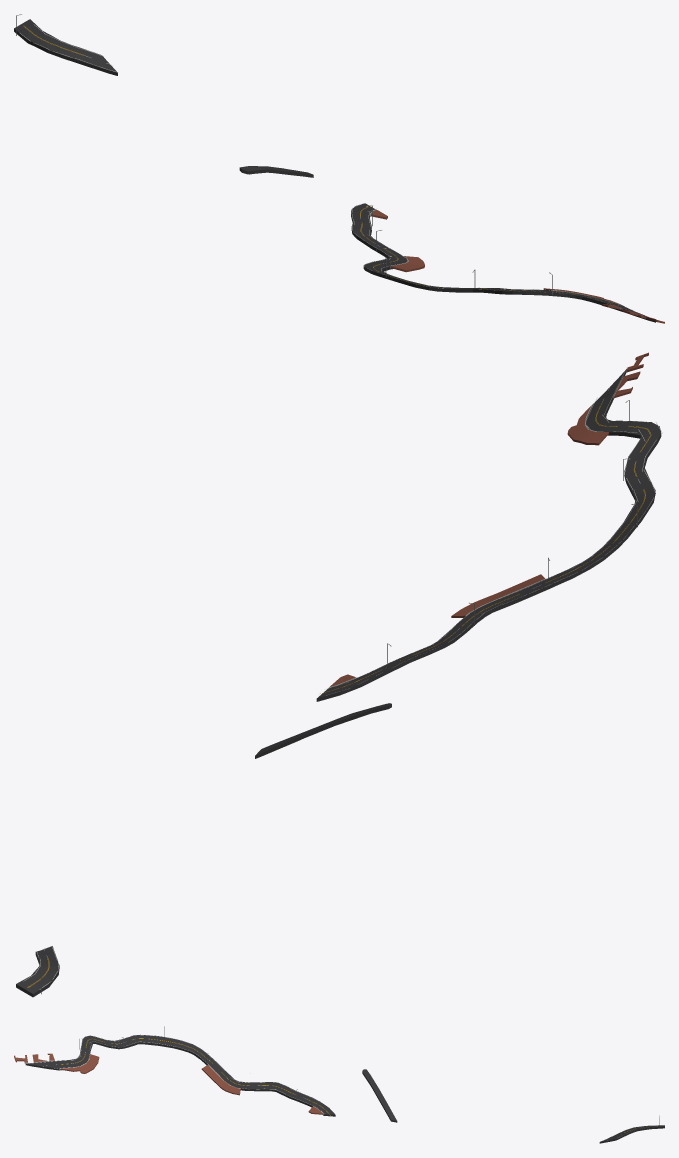
The picture shows the model from 3 angles, top to bottom: view 1: azimuth 30°, elevation 25°; view 2: azimuth 150°, elevation 25°; view 3: azimuth 270°, elevation 25°; orthographic projection. The views are drawn at different scales.
Size of the model in its own units: 54.88 by 62.47 by 404.
